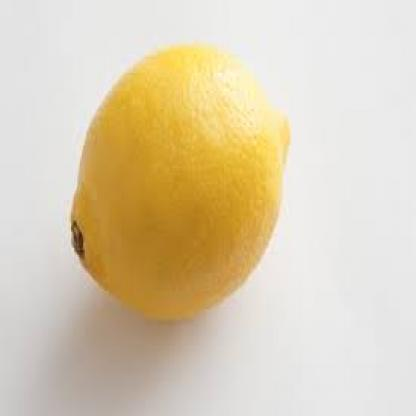lemon: (70, 42, 290, 318)
